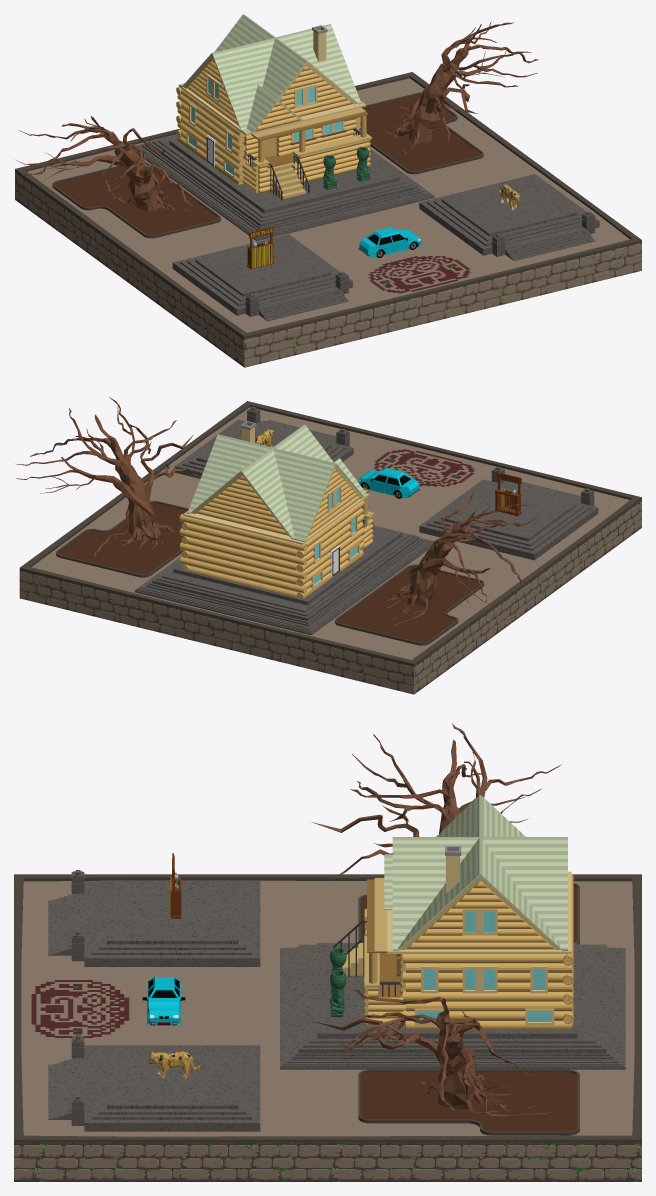
3 renders of one model, top to bottom at view 1: azimuth 30°, elevation 25°; view 2: azimuth 150°, elevation 25°; view 3: azimuth 270°, elevation 25°, orthographic. The views are drawn at different scales.
Parts seen in each view (by area): view 1: Cube.011, Cube.1516, VEHICLES_CAR, OBJRANDOM_LEMONADE_STAND; view 2: Cube.011, Cube.1516, VEHICLES_CAR, OBJRANDOM_LEMONADE_STAND; view 3: Cube.011, Cube.1516, VEHICLES_CAR, ANIMAL_JAGUAR.
Boxes of the visible parts, box(x1,y1,x2,y2) form: Cube.011: box(14, 21, 641, 367); Cube.1516: box(176, 14, 371, 200); VEHICLES_CAR: box(358, 227, 421, 257); OBJRANDOM_LEMONADE_STAND: box(247, 226, 273, 268); Cube.011: box(14, 397, 641, 694); Cube.1516: box(179, 421, 374, 598); VEHICLES_CAR: box(357, 468, 419, 498); OBJRANDOM_LEMONADE_STAND: box(495, 472, 521, 516); Cube.011: box(14, 723, 641, 1181); Cube.1516: box(333, 795, 573, 1029); VEHICLES_CAR: box(142, 977, 185, 1025); ANIMAL_JAGUAR: box(148, 1051, 200, 1079).
Size of the model in its own units: 5099 by 1662 by 4000.
Materials: 43 (6 with a texture image).
